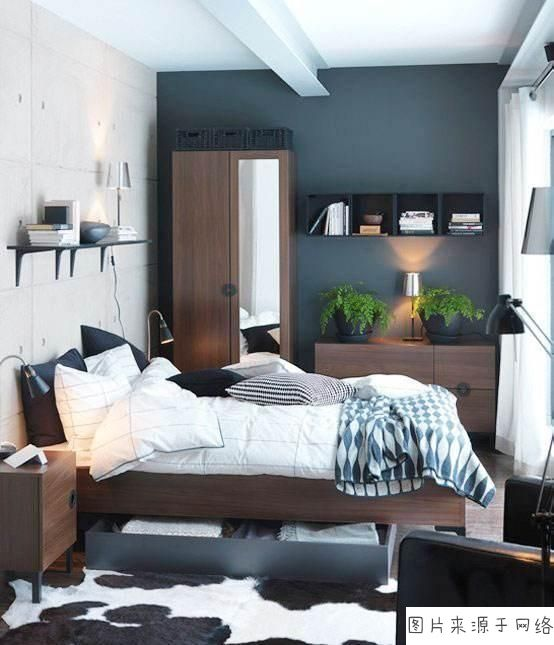床: (63, 362, 491, 526)
枕头: (56, 324, 145, 470), (184, 348, 362, 416)
灯: (487, 285, 554, 536), (91, 158, 134, 240), (393, 262, 432, 341)
